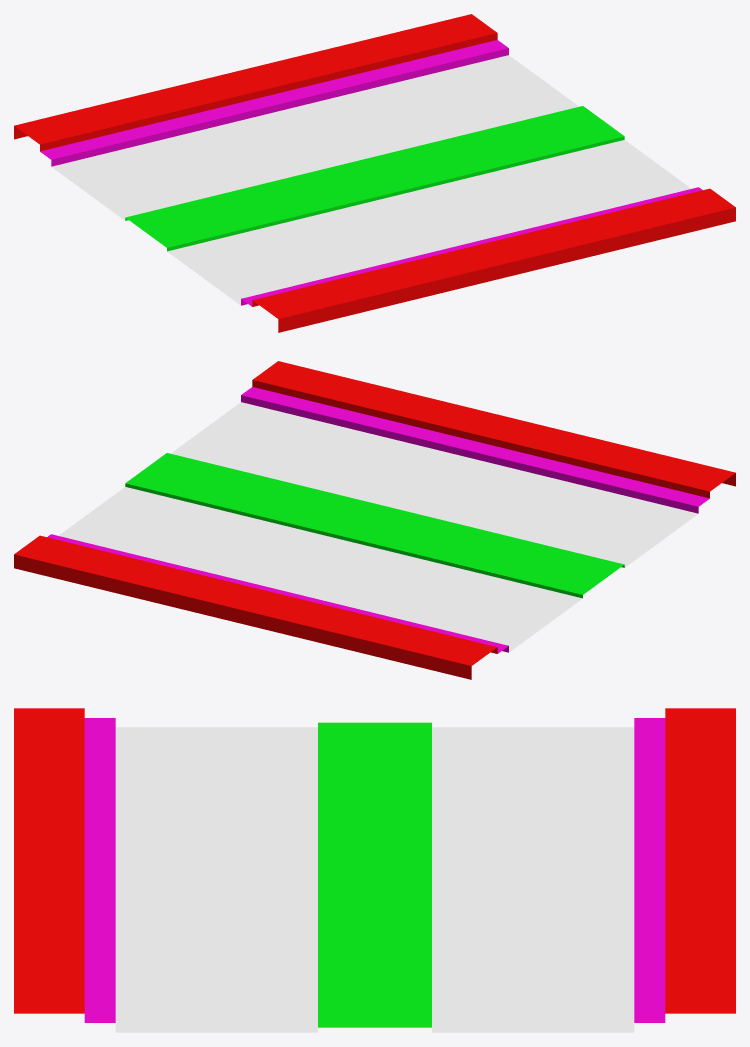
The model's file is Floor-Base.fbx.
3 renders of one model, top to bottom at view 1: azimuth 30°, elevation 25°; view 2: azimuth 150°, elevation 25°; view 3: azimuth 270°, elevation 25°, orthographic. The views are drawn at different scales.
Visible parts, largest first — view 1: Base; view 2: Base; view 3: Base.
Part boxes in pixels (x1,y1,x2,y2): Base: (14,14,735,332); Base: (14,361,735,679); Base: (14,708,735,1032).
Size of the model in its own units: 78.74 by 2.28 by 78.74.
